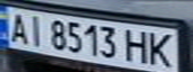1: (78, 21, 100, 56)
3: (96, 24, 124, 61)
5: (63, 20, 84, 54)
8: (45, 17, 69, 52)
A: (3, 10, 30, 44)
H: (121, 27, 151, 64)
I: (24, 14, 48, 47)
K: (145, 29, 178, 69)
